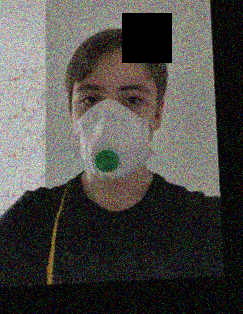with_mask: (70, 61, 157, 179)
